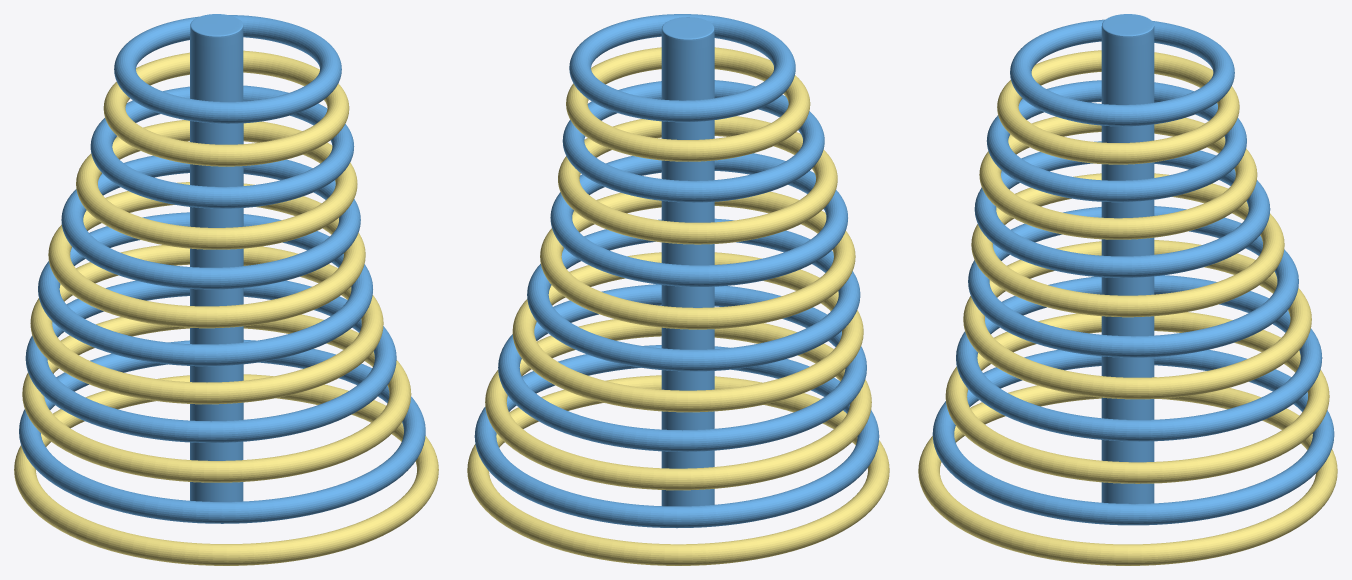
Rendered from Toy_SpiralClimber_Hi_2127.fbx.
The picture shows the model from 3 angles, left to right: view 1: azimuth 30°, elevation 25°; view 2: azimuth 150°, elevation 25°; view 3: azimuth 270°, elevation 25°; orthographic projection.
Parts seen in each view (by area): view 1: Cylinder, Torus, Torus.001, Torus.002, Torus.003, Torus.004, Torus.005, Torus.007, Torus.006, Torus.008, Torus.011, Torus.010 (+1 smaller); view 2: Cylinder, Torus, Torus.002, Torus.001, Torus.003, Torus.004, Torus.005, Torus.006, Torus.007, Torus.011, Torus.008, Torus.010 (+1 smaller); view 3: Cylinder, Torus.001, Torus, Torus.002, Torus.003, Torus.004, Torus.005, Torus.006, Torus.007, Torus.011, Torus.010, Torus.008 (+1 smaller).
Boxes of the visible parts, x1=… form: Cylinder: x1=190, y1=14, x2=243, y2=501; Torus: x1=14, y1=374, x2=438, y2=565; Torus.001: x1=19, y1=339, x2=425, y2=523; Torus.002: x1=22, y1=314, x2=411, y2=482; Torus.003: x1=25, y1=280, x2=396, y2=442; Torus.004: x1=30, y1=245, x2=383, y2=404; Torus.005: x1=38, y1=212, x2=372, y2=366; Torus.007: x1=61, y1=155, x2=360, y2=289; Torus.006: x1=48, y1=182, x2=365, y2=328; Torus.008: x1=76, y1=120, x2=357, y2=249; Torus.011: x1=114, y1=15, x2=341, y2=123; Torus.010: x1=103, y1=50, x2=349, y2=166; Cylinder: x1=661, y1=17, x2=714, y2=506; Torus: x1=467, y1=375, x2=889, y2=565; Torus.002: x1=485, y1=319, x2=871, y2=490; Torus.001: x1=474, y1=345, x2=879, y2=528; Torus.003: x1=498, y1=284, x2=866, y2=451; Torus.004: x1=512, y1=252, x2=863, y2=412; Torus.005: x1=527, y1=218, x2=860, y2=371; Torus.006: x1=540, y1=191, x2=855, y2=329; Torus.007: x1=550, y1=153, x2=847, y2=286; Torus.011: x1=569, y1=14, x2=795, y2=122; Torus.008: x1=558, y1=116, x2=837, y2=244; Torus.010: x1=566, y1=47, x2=810, y2=161; Cylinder: x1=1101, y1=14, x2=1154, y2=503; Torus.001: x1=932, y1=349, x2=1334, y2=525; Torus: x1=918, y1=377, x2=1337, y2=565; Torus.002: x1=945, y1=312, x2=1329, y2=483; Torus.003: x1=956, y1=275, x2=1322, y2=441; Torus.004: x1=963, y1=240, x2=1311, y2=399; Torus.005: x1=968, y1=206, x2=1298, y2=357; Torus.006: x1=971, y1=173, x2=1284, y2=317; Torus.007: x1=974, y1=141, x2=1270, y2=277; Torus.011: x1=1010, y1=19, x2=1234, y2=126; Torus.010: x1=997, y1=50, x2=1239, y2=164; Torus.008: x1=979, y1=116, x2=1257, y2=239.
Size of the model in its own units: 1.89 by 2.4 by 1.89.
